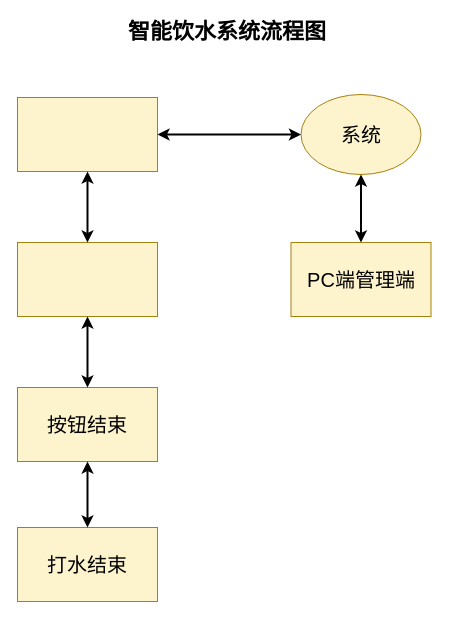
This 449x619 diagram has some shape labels left out. Here are the shapes that lost their labels. From the top down, the centre of each, then its label:
the point at 87,134: 刷卡、账号密码
the point at 87,279: 按钮开水
